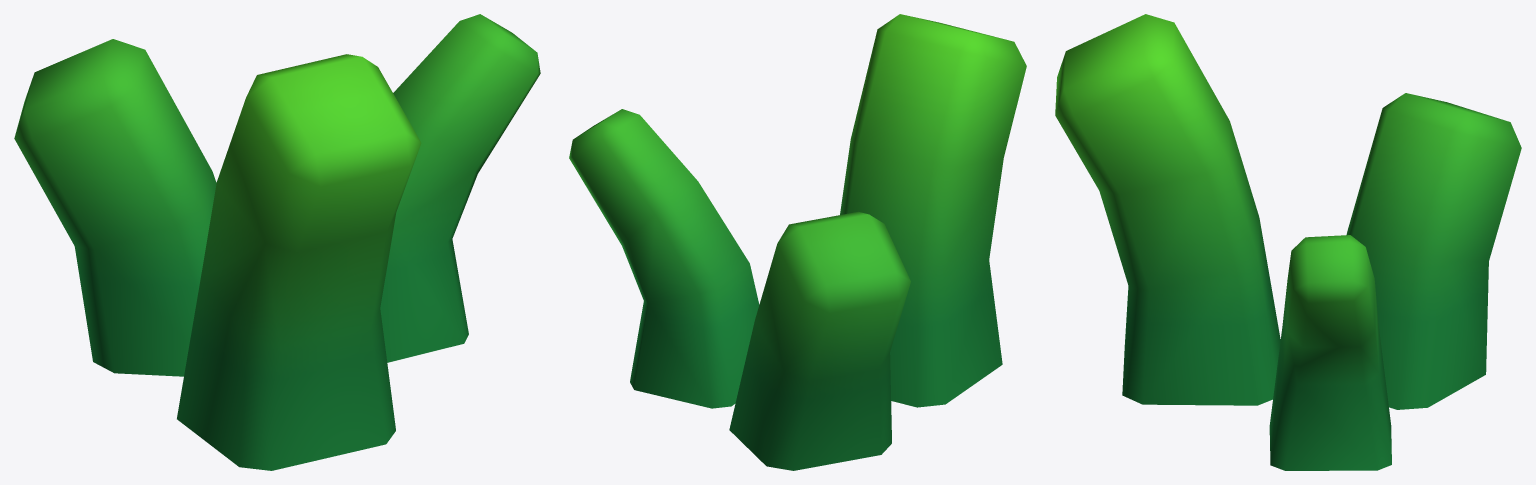
The model's file is Grass_2_1.glb.
The picture shows the model from 3 angles, left to right: view 1: azimuth 30°, elevation 25°; view 2: azimuth 150°, elevation 25°; view 3: azimuth 270°, elevation 25°; orthographic projection. The views are drawn at different scales.
Visible parts, largest first — view 1: Grass_2_1; view 2: Grass_2_1; view 3: Grass_2_1.
Boxes of the visible parts, x1,y1,x2,y2 form: Grass_2_1: [14, 14, 540, 470]; Grass_2_1: [569, 14, 1026, 470]; Grass_2_1: [1055, 14, 1521, 470].
Size of the model in its own units: 0.2267 by 0.1858 by 0.2324.
Materials: 1 (1 with a texture image).
